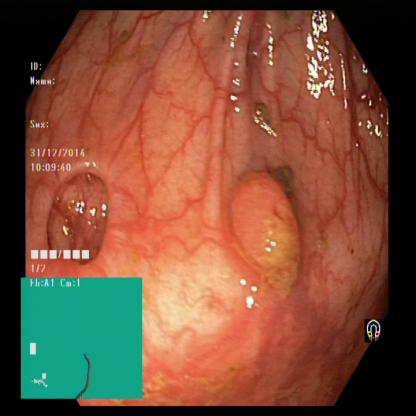Labels: (20, 238, 145, 397), (29, 59, 86, 179), (356, 307, 395, 350)
Polyps: (225, 160, 304, 288)
